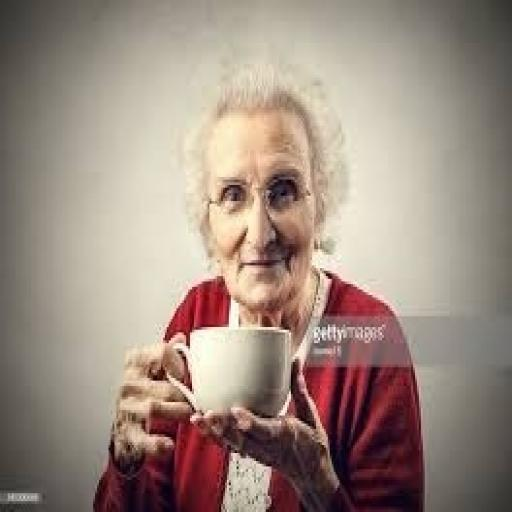drinking: (164, 10, 364, 424)
